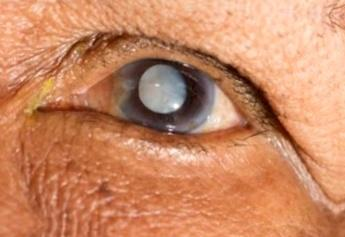eye: (116, 58, 216, 138)
